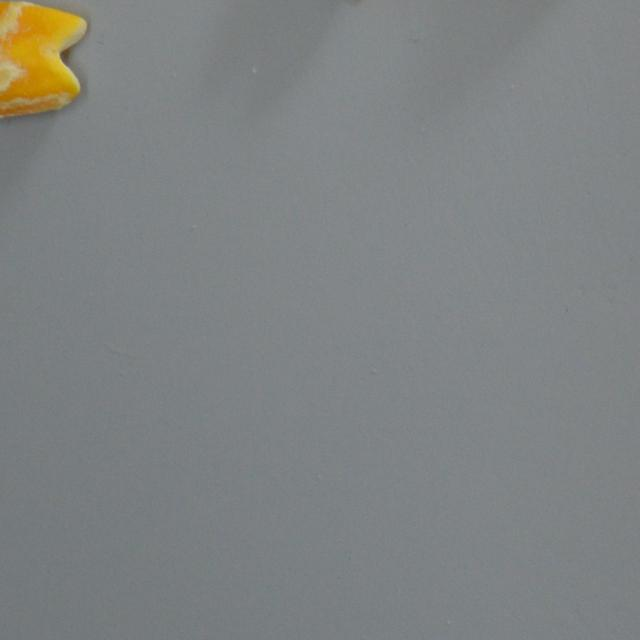pelicula: (0, 0, 86, 116)
